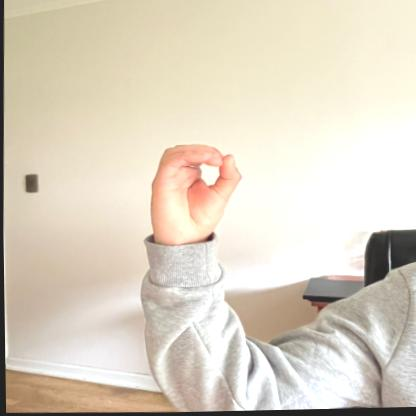O: (144, 140, 241, 245)
